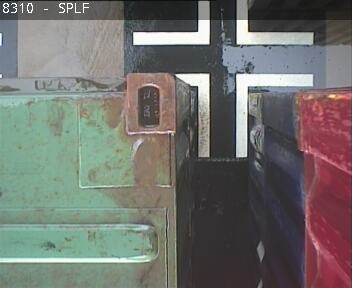groundmarker_1: (176, 73, 312, 157), (133, 1, 313, 46)
